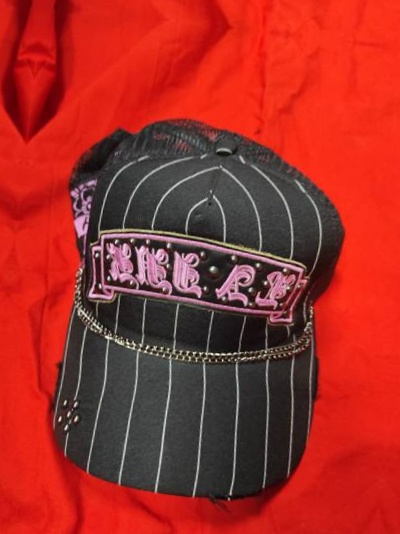Hat: (29, 84, 387, 520)
